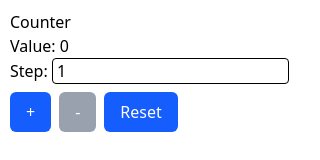
CounterView › increment button increases value
The image size is (320, 160).
Click the button "+".
click(31, 112)  # box top-left (10, 92), bottom-right (51, 132)
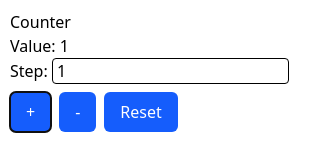
Expected: the text "Value: 1" is shown, top-left (10, 35), bottom-right (69, 57)
Click the button "+".
click(31, 112)  # box top-left (10, 92), bottom-right (51, 132)
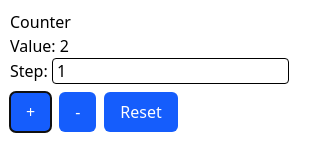
Expected: the text "Value: 2" is shown, top-left (10, 35), bottom-right (69, 57)
